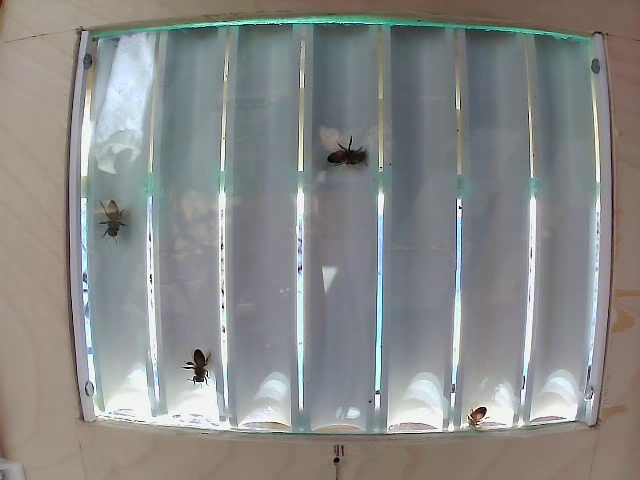bee: (322, 146, 387, 191), (182, 339, 226, 387), (100, 189, 140, 226)
